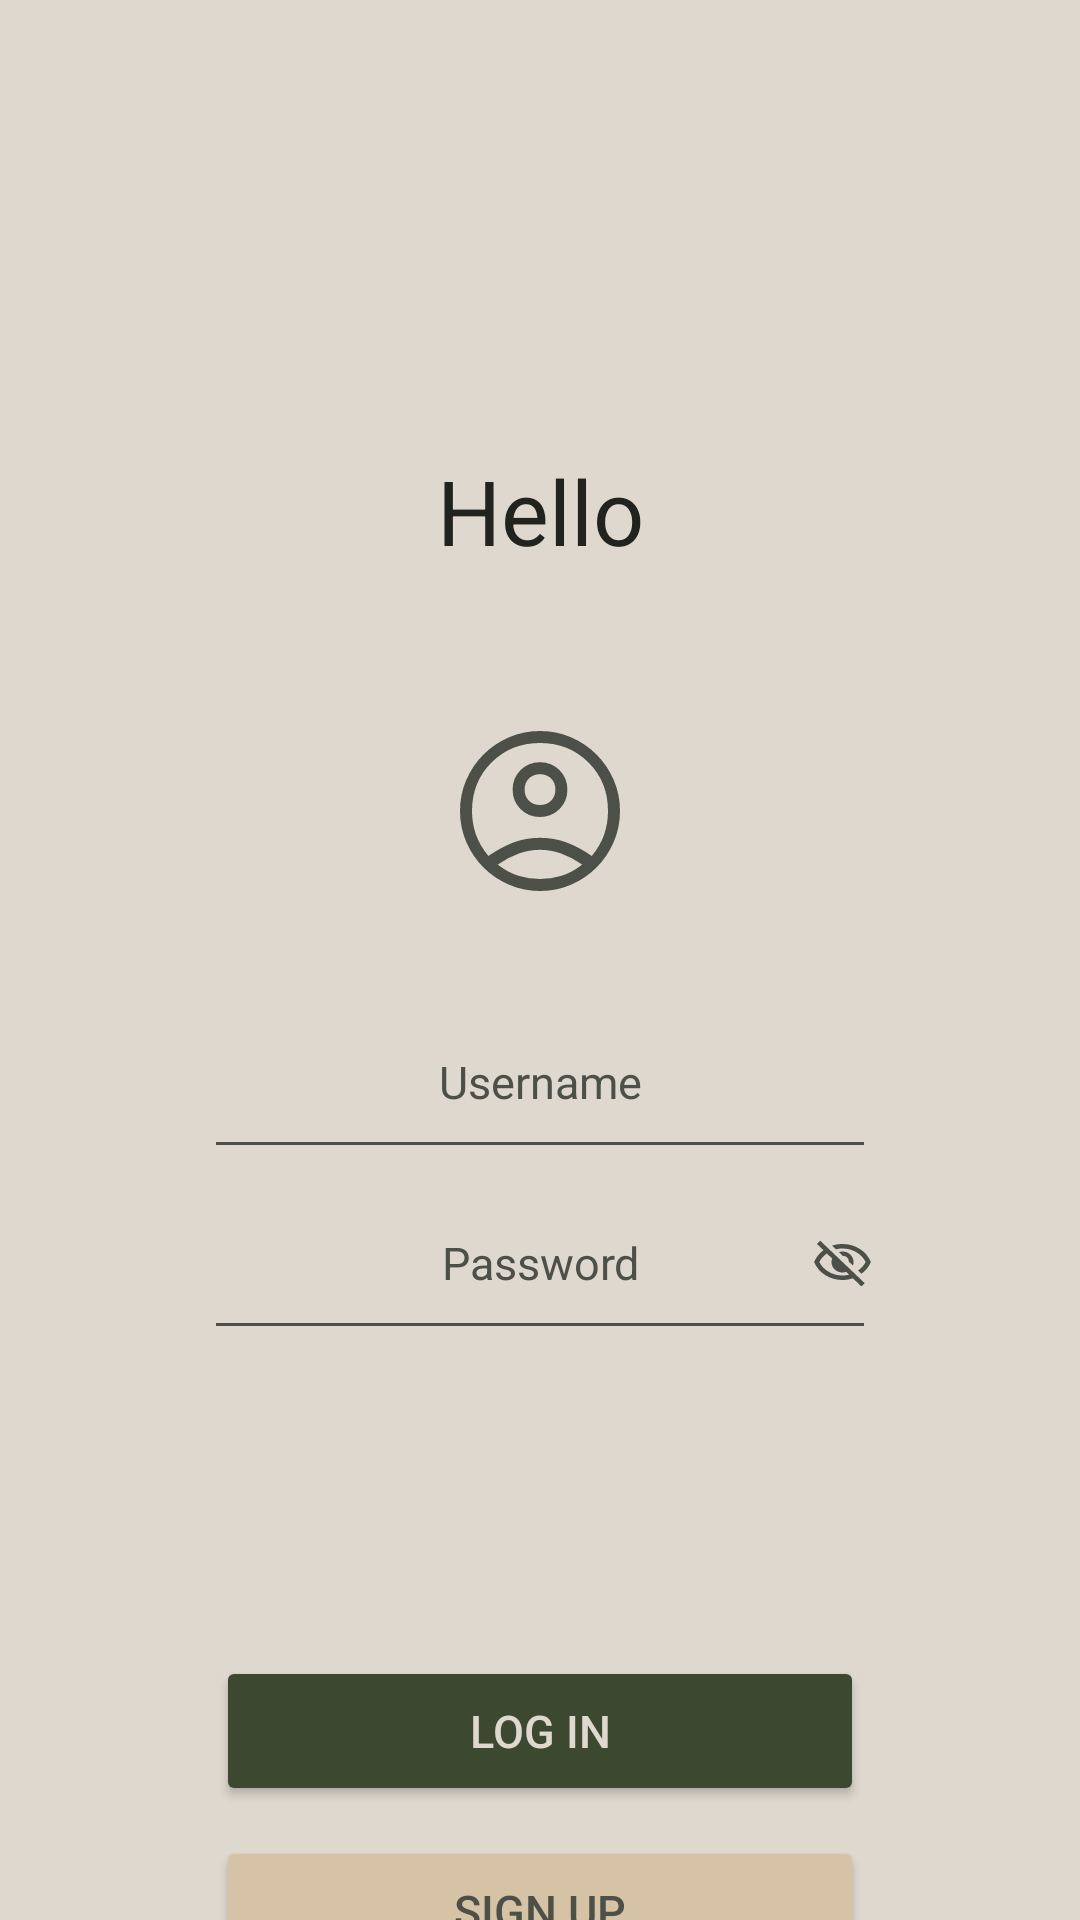

Point at icon controls on the screen. Image size 1080px×1920px, points as (x,y).
account: (540,811)
visibility off: (842,1263)
